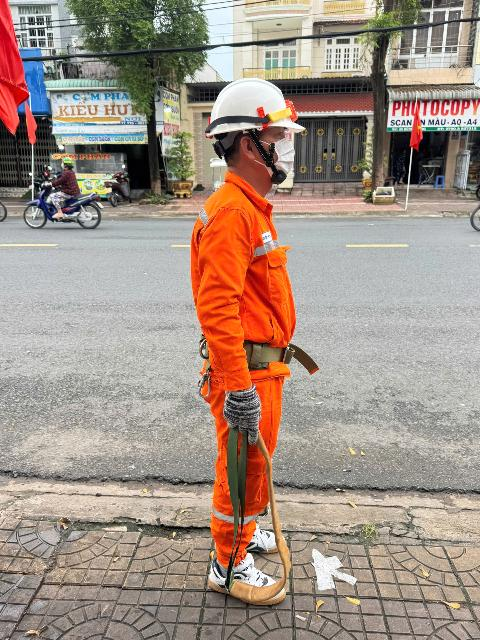gloves: (217, 381, 276, 445)
harness: (186, 313, 316, 379)
helmet: (193, 72, 301, 147)
shoes: (200, 550, 290, 607), (224, 519, 298, 559)
